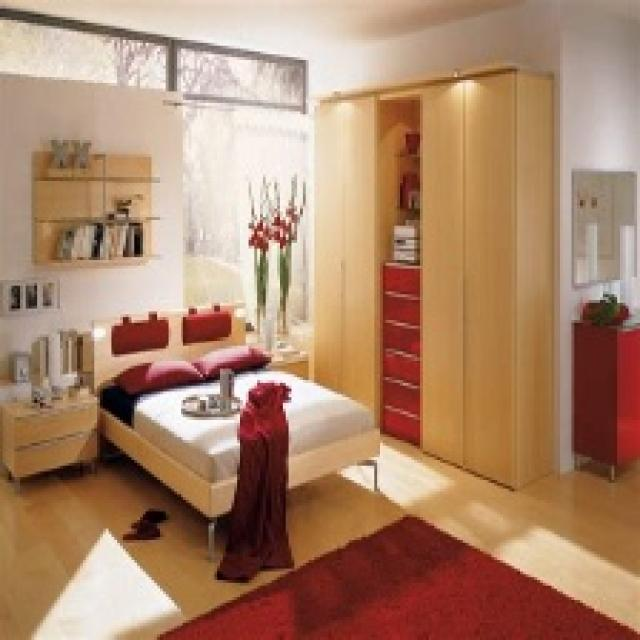Bed: (89, 303, 380, 560)
